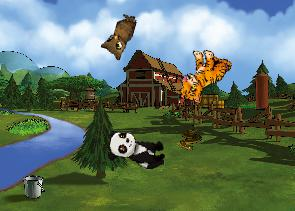owl: (98, 9, 137, 61)
panda: (104, 128, 169, 171)
tiger: (176, 45, 233, 108)
